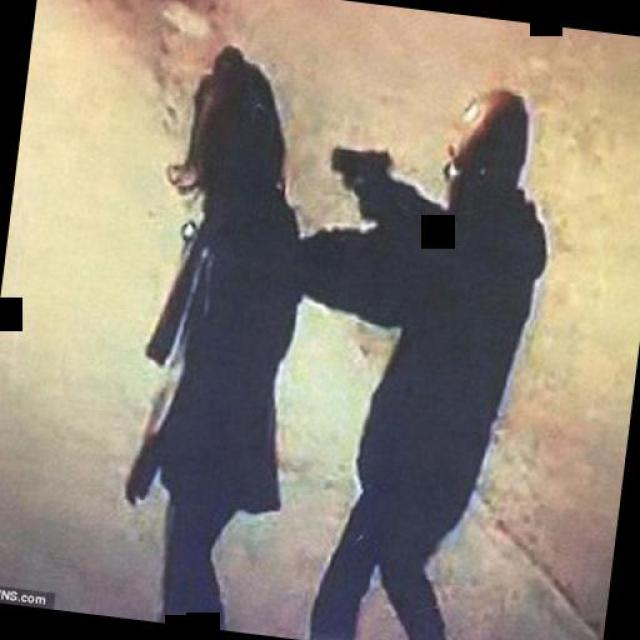gun: (316, 135, 399, 223)
